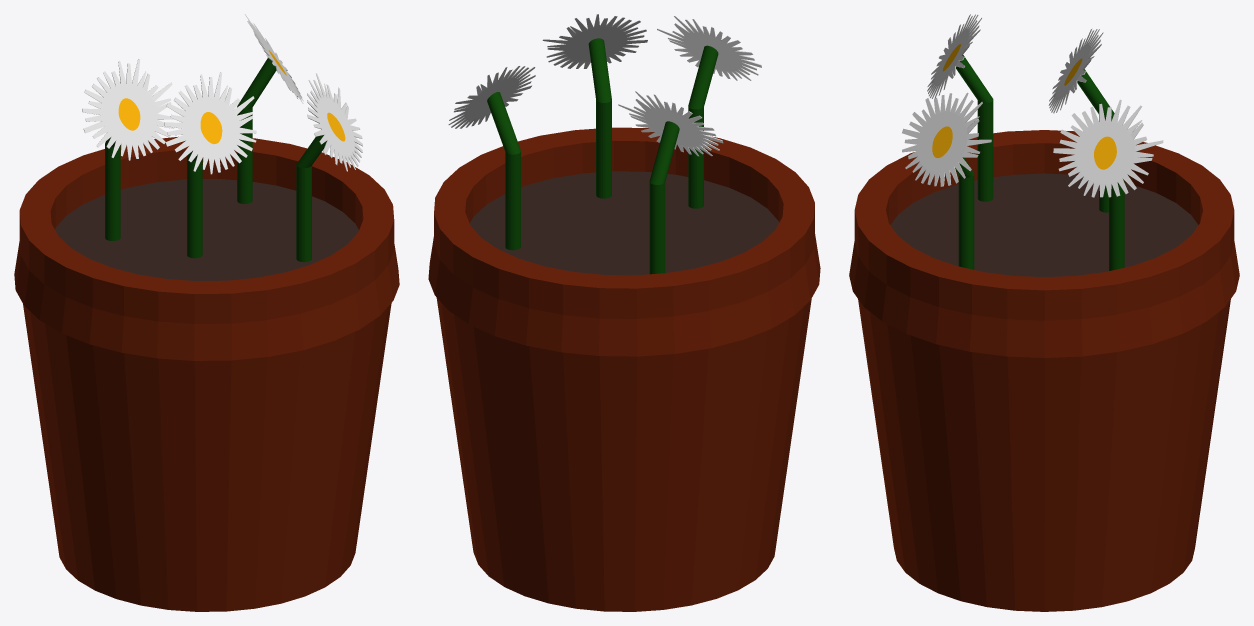
Rendered from Blumentopf.fbx.
3 views of the same model, side by side, from view 1: azimuth 30°, elevation 25°; view 2: azimuth 150°, elevation 25°; view 3: azimuth 270°, elevation 25° (orthographic).
Parts seen in each view (by area): view 1: Topf, Erde, Cylinder, Cylinder.003, Cylinder.001, Stiel.001, Stiel.002, Stiel, Stiel.003, Cylinder.002, BlueteMitte, BlueteMitte.003; view 2: Topf, Erde, Cylinder.001, Cylinder.003, Cylinder, Stiel.001, Stiel.003, Stiel.002, Cylinder.002, Stiel; view 3: Topf, Erde, Cylinder.002, Cylinder.001, Stiel, Stiel.001, Cylinder.003, Cylinder, Stiel.002, Stiel.003, BlueteMitte.002.
Boxes of the visible parts, box(x1,y1,x2,y2) form: Topf: box(14, 136, 399, 611); Erde: box(55, 179, 358, 280); Cylinder: box(164, 72, 256, 174); Cylinder.003: box(82, 58, 174, 160); Cylinder.001: box(307, 73, 362, 171); Stiel.001: box(296, 135, 326, 262); Stiel.002: box(237, 58, 276, 203); Stiel: box(187, 151, 202, 258); Stiel.003: box(105, 137, 120, 240); Cylinder.002: box(245, 14, 303, 103); BlueteMitte: box(200, 112, 222, 144); BlueteMitte.003: box(118, 98, 140, 130); Topf: box(428, 127, 820, 611); Erde: box(469, 171, 778, 275); Cylinder.001: box(542, 14, 647, 68); Cylinder.003: box(618, 91, 723, 156); Cylinder: box(657, 16, 761, 80); Stiel.001: box(588, 38, 611, 198); Stiel.003: box(649, 121, 679, 274); Stiel.002: box(487, 92, 520, 250); Cylinder.002: box(448, 65, 535, 128); Stiel: box(688, 45, 718, 208); Topf: box(849, 130, 1239, 611); Erde: box(890, 173, 1198, 277); Cylinder.002: box(1053, 99, 1163, 197); Cylinder.001: box(902, 92, 991, 186); Stiel: box(956, 55, 993, 201); Stiel.001: box(955, 157, 974, 269); Cylinder.003: box(1048, 28, 1103, 113); Cylinder: box(927, 14, 982, 98); Stiel.002: box(1109, 179, 1124, 270); Stiel.003: box(1077, 69, 1114, 212); BlueteMitte.002: box(1094, 136, 1116, 169).
Size of the model in its own units: 68.48 by 99.09 by 68.48.
